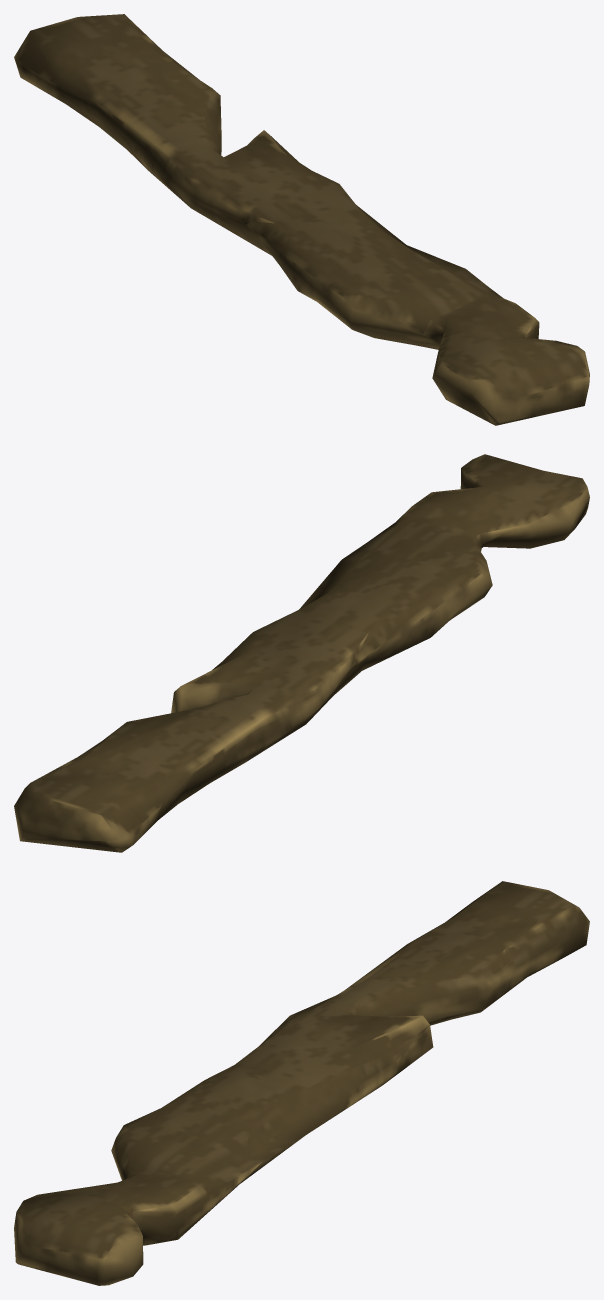
The model's file is board_03.fbx.
3 views of the same model, one above another, from view 1: azimuth 30°, elevation 25°; view 2: azimuth 150°, elevation 25°; view 3: azimuth 330°, elevation 25° (orthographic).
Visible parts, largest first — view 1: Cylinder.006; view 2: Cylinder.006; view 3: Cylinder.006.
Boxes of the visible parts, x1,y1,x2,y2 form: Cylinder.006: [14, 14, 589, 425]; Cylinder.006: [14, 454, 589, 852]; Cylinder.006: [14, 881, 589, 1285].
Size of the model in its own units: 93.02 by 33.36 by 587.
